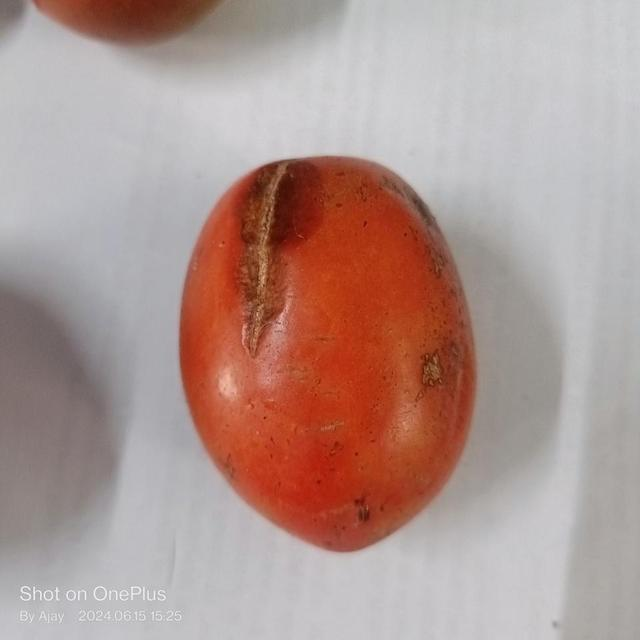Cracking Fruit: (69, 138, 254, 357)
